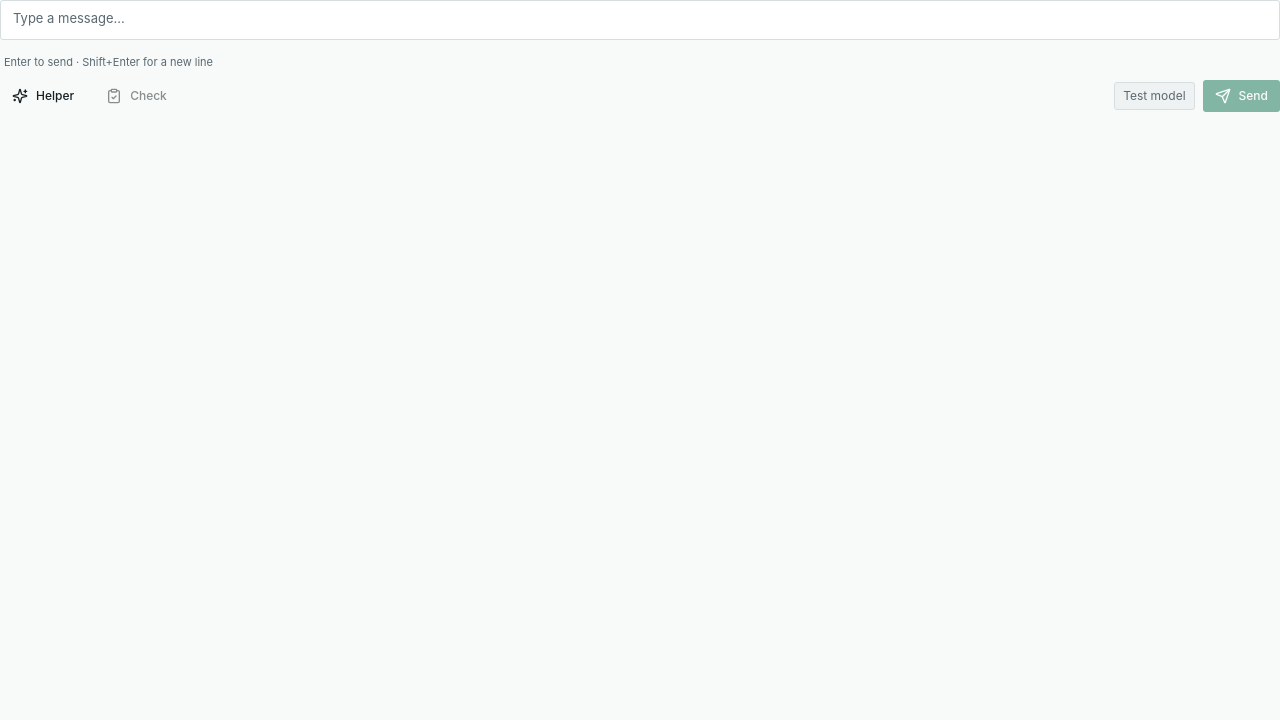
Test: ChatInput ambiguity hints › opens the pre-send check on Ctrl/Cmd+Shift+Enter instead of sending
# Nothing to check yet: neither opens nor sends, and the default stands.
Press Enter in the text box with test id "chat-input-textarea", box [0,0,1279,40]
Type "make the list sortable" into the text box with test id "chat-input-textarea" at {"x": 640, "y": 20}, box [0,0,1279,40]
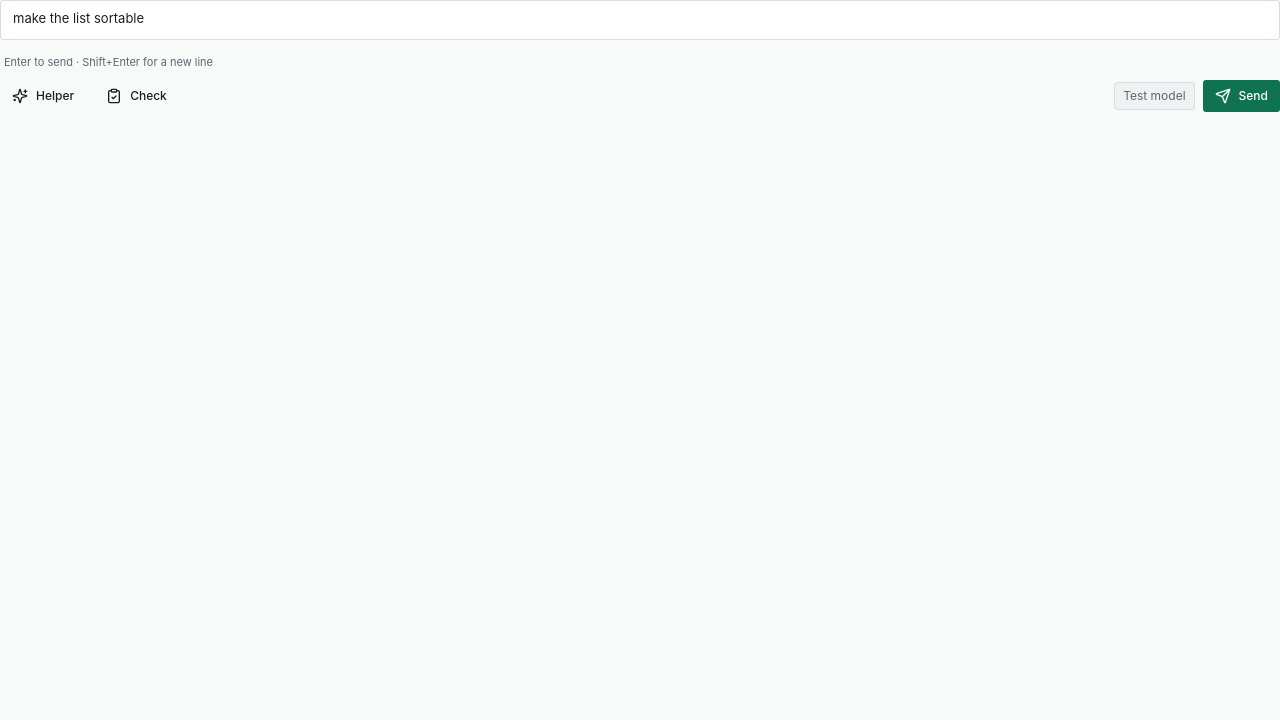
Press Enter in the text box with test id "chat-input-textarea", box [0,0,1279,40]
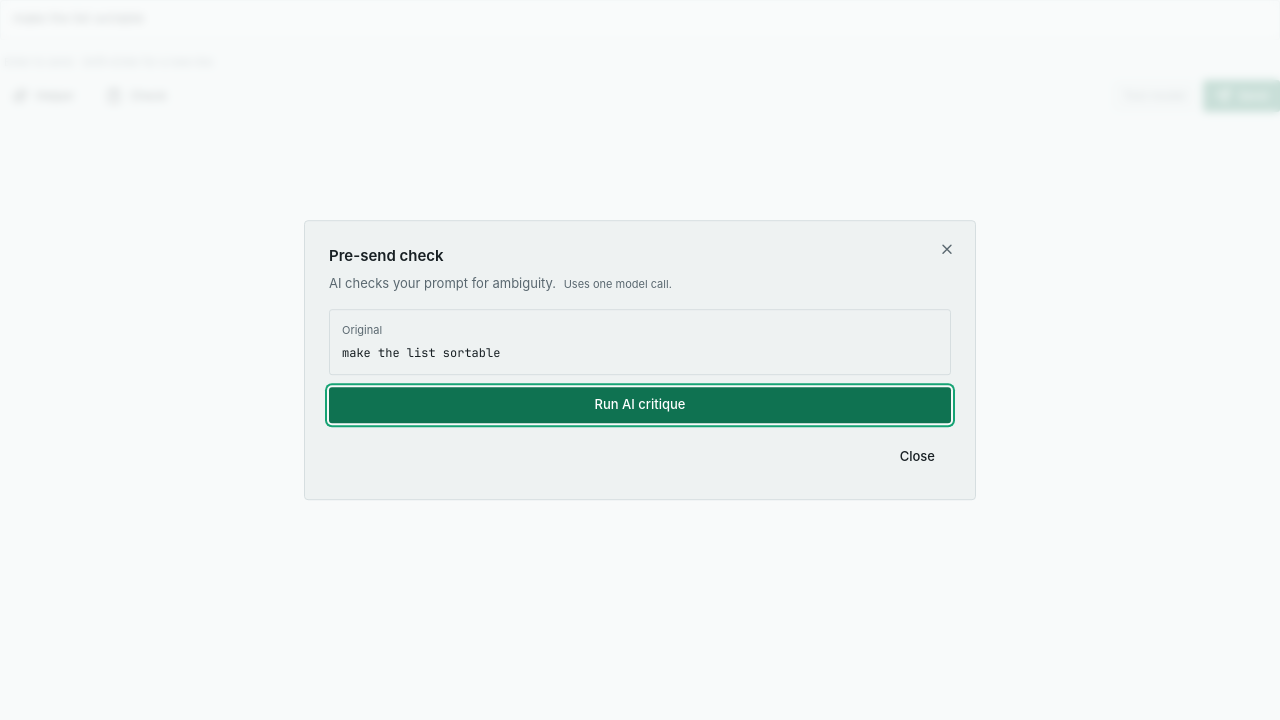
Now the dialog with test id "prompt-check-dialog" is shown, box [304,220,976,500]
